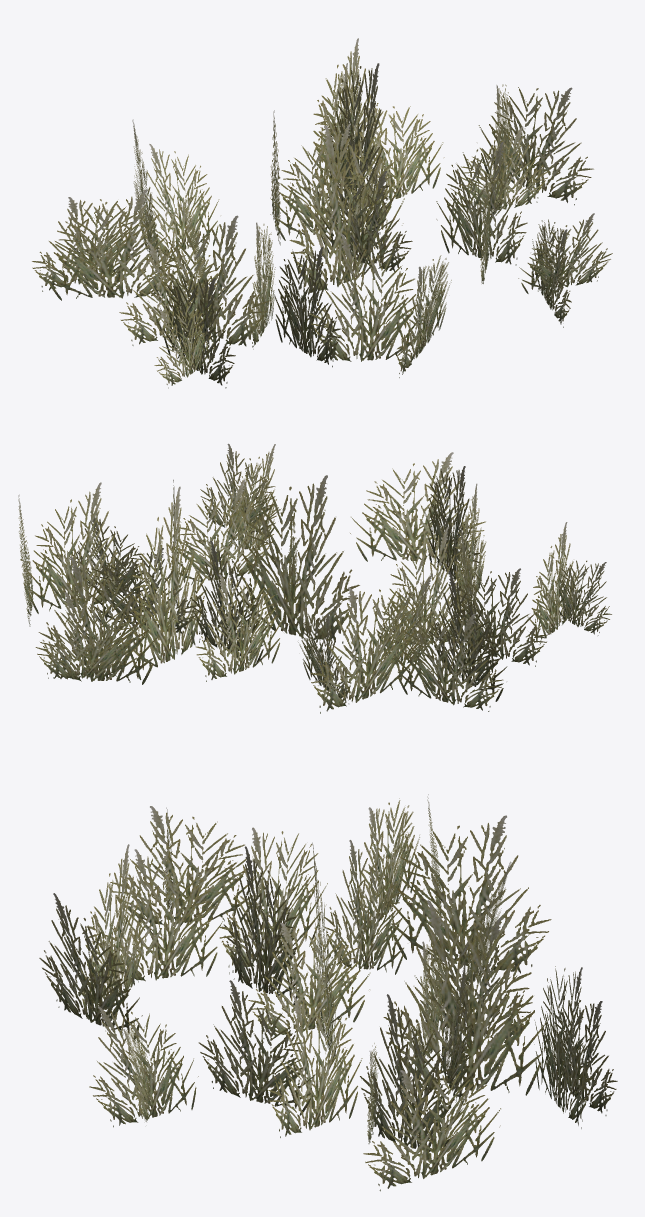
The model's file is DN_grass05b.FBX.
3 views of the same model, one above another, from view 1: azimuth 30°, elevation 25°; view 2: azimuth 150°, elevation 25°; view 3: azimuth 270°, elevation 25° (orthographic). The views are drawn at different scales.
Parts seen in each view (by area): view 1: DN_grass05b; view 2: DN_grass05b; view 3: DN_grass05b.
Boxes of the visible parts, x1,y1,x2,y2 form: DN_grass05b: (32,38,612,388); DN_grass05b: (18,443,611,713); DN_grass05b: (39,794,617,1191).
Size of the model in its own units: 194 by 61.95 by 162.
